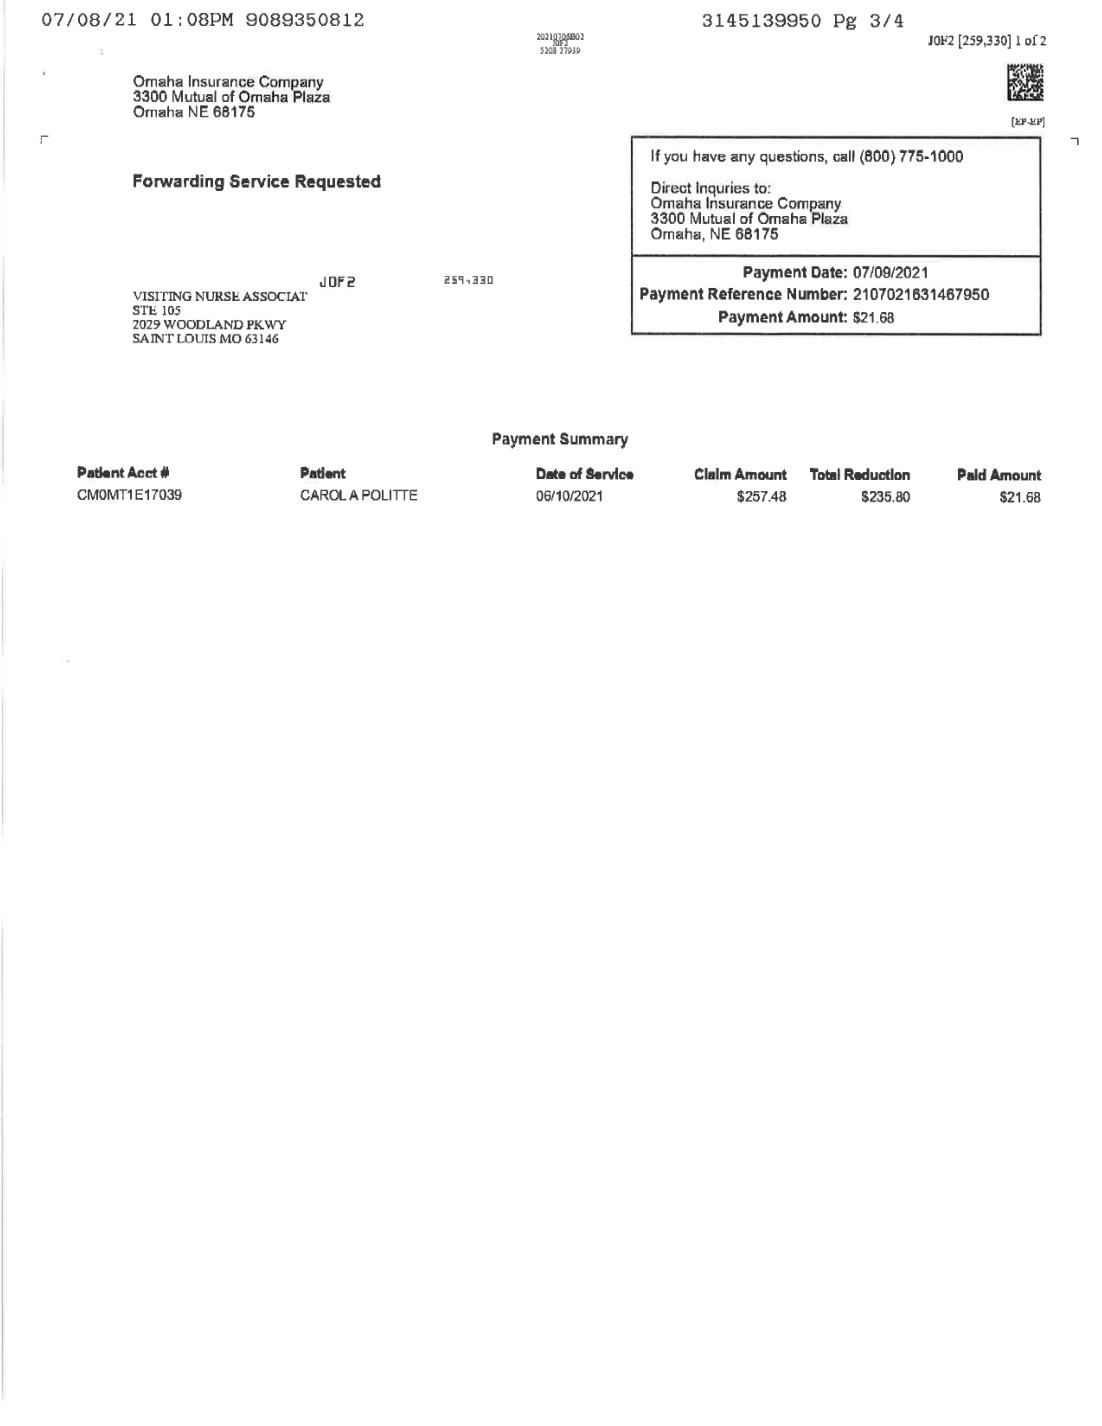data: (623, 127, 1055, 350)
table: (69, 448, 1055, 515)
